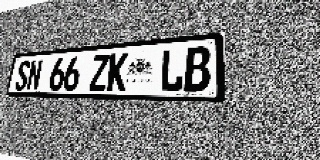6: (62, 56, 82, 91), (48, 57, 67, 91)
B: (184, 46, 211, 92)
K: (106, 52, 128, 91)
L: (159, 48, 185, 92)
N: (26, 59, 43, 91)
S: (14, 60, 31, 91)
Z: (89, 54, 110, 91)
